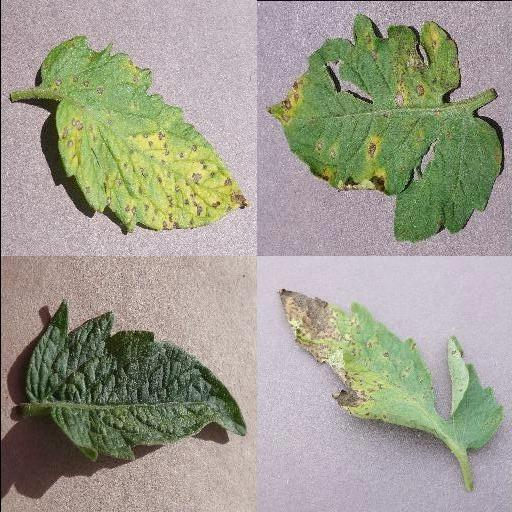Septoria: (265, 11, 505, 240), (41, 37, 249, 233), (281, 288, 502, 452)
Spider Mites: (25, 299, 247, 461)
